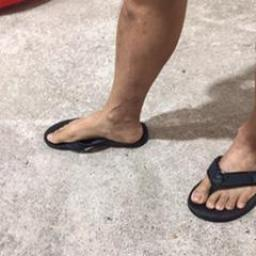Medial View -Right Foot-: (42, 85, 154, 155)
